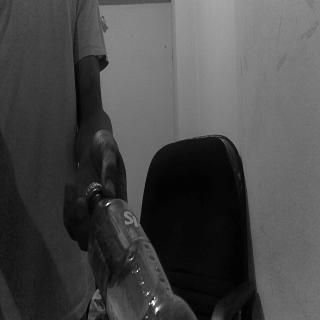plastic_bottles: (84, 182, 196, 320)
